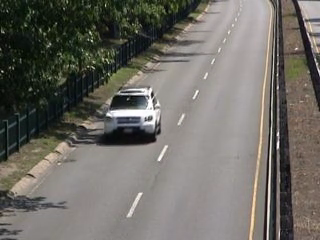car: (99, 85, 165, 143)
